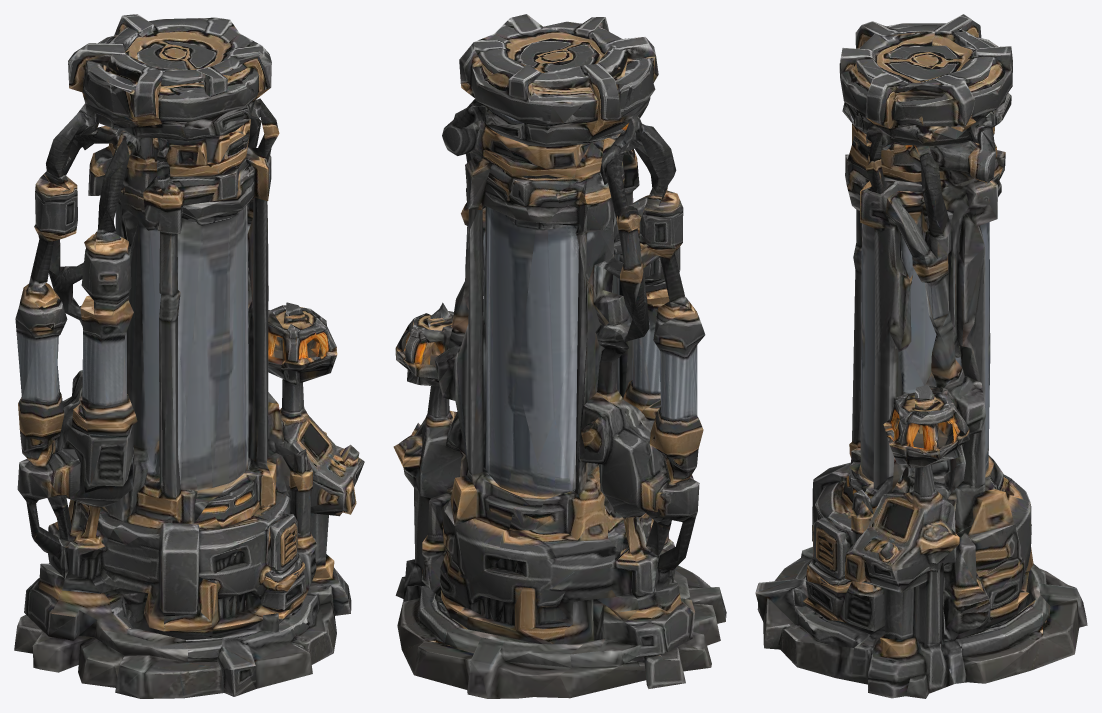
The model's file is obj_temporal_field_generator.glb.
3 renders of one model, left to right at view 1: azimuth 30°, elevation 25°; view 2: azimuth 150°, elevation 25°; view 3: azimuth 270°, elevation 25°, orthographic. The views are drawn at different scales.
Visible parts, largest first — view 1: Mesh_0; view 2: Mesh_0; view 3: Mesh_0.
Part boxes in pixels (left/top/right/bottom): Mesh_0: left=14, top=14, right=364, bottom=698; Mesh_0: left=393, top=14, right=726, bottom=698; Mesh_0: left=755, top=14, right=1087, bottom=698.
Size of the model in its own units: 1.1 by 1.89 by 0.9956.
1 material, 1 textured.
